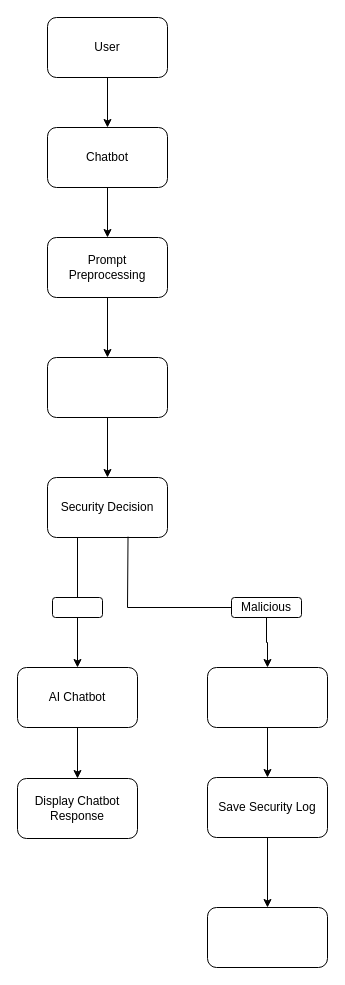
The diagram is 345 pixels wide and 985 high, and some of its shapes have lost their labels. Here are the shapes that lost their labels. From the top down, the box of each, then its label:
(46, 356, 168, 418): Prompt Injection Detector
(52, 596, 102, 618): safe
(206, 666, 328, 728): Block Prompt
(206, 906, 328, 968): Display Security Warning
